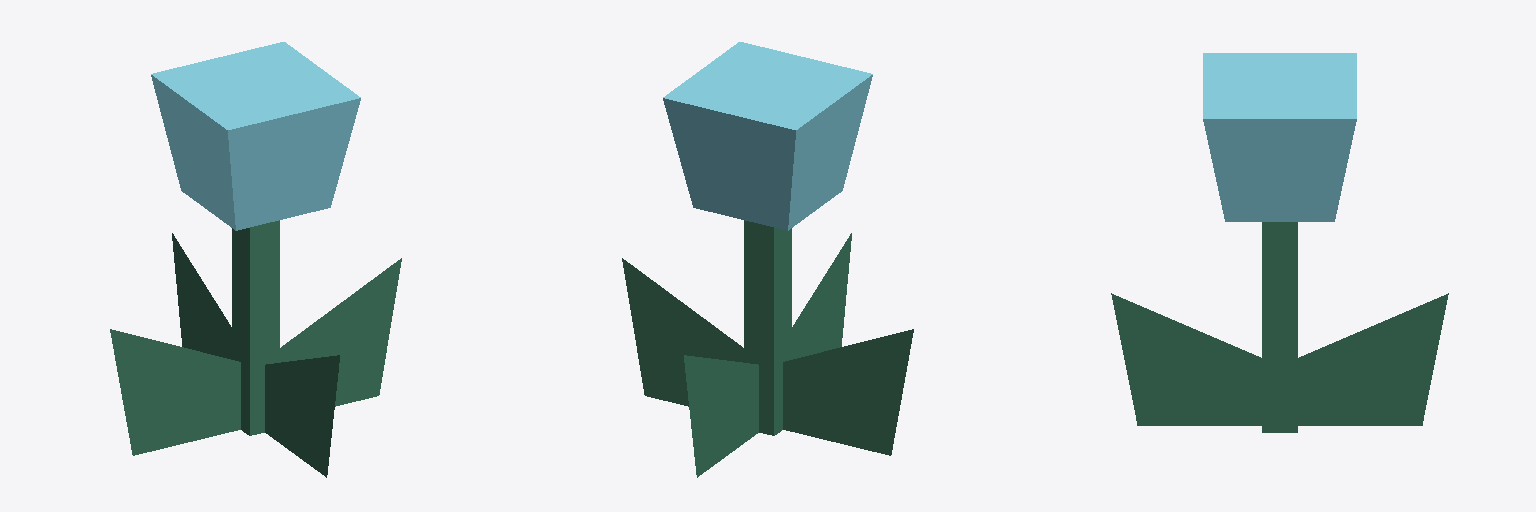
3 renders of one model, left to right at view 1: azimuth 30°, elevation 25°; view 2: azimuth 150°, elevation 25°; view 3: azimuth 270°, elevation 25°, orthographic.
Parts seen in each view (by area): view 1: Mesh1 Flower_Tall_Yellow Model, Mesh5 Flower_Tall_Yellow Model, Mesh2 Flower_Tall_Yellow Model, Mesh4 Flower_Tall_Yellow Model, Mesh3 Flower_Tall_Yellow Model; view 2: Mesh1 Flower_Tall_Yellow Model, Mesh5 Flower_Tall_Yellow Model, Mesh2 Flower_Tall_Yellow Model, Mesh3 Flower_Tall_Yellow Model, Mesh4 Flower_Tall_Yellow Model; view 3: Mesh1 Flower_Tall_Yellow Model, Mesh3 Flower_Tall_Yellow Model, Mesh4 Flower_Tall_Yellow Model.
Boxes of the visible parts, box(x1,y1,x2,y2) form: Mesh1 Flower_Tall_Yellow Model: box(151, 42, 360, 435); Mesh5 Flower_Tall_Yellow Model: box(110, 329, 240, 455); Mesh2 Flower_Tall_Yellow Model: box(280, 258, 401, 406); Mesh4 Flower_Tall_Yellow Model: box(265, 355, 339, 477); Mesh3 Flower_Tall_Yellow Model: box(172, 233, 231, 359); Mesh1 Flower_Tall_Yellow Model: box(663, 42, 872, 435); Mesh5 Flower_Tall_Yellow Model: box(783, 329, 913, 455); Mesh2 Flower_Tall_Yellow Model: box(622, 258, 743, 406); Mesh3 Flower_Tall_Yellow Model: box(684, 355, 758, 477); Mesh4 Flower_Tall_Yellow Model: box(792, 233, 851, 359); Mesh1 Flower_Tall_Yellow Model: box(1203, 53, 1356, 432); Mesh3 Flower_Tall_Yellow Model: box(1298, 293, 1448, 425); Mesh4 Flower_Tall_Yellow Model: box(1111, 293, 1261, 425).
Size of the model in its own units: 0.4859 by 0.54 by 0.4859.
1 materials, 1 textured.